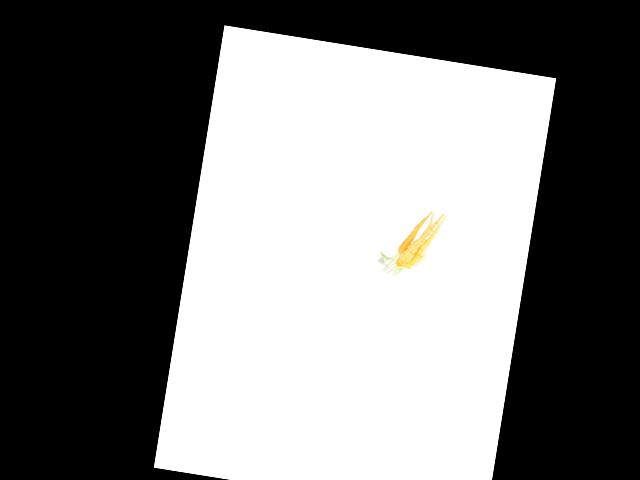carrot: (403, 208, 449, 277)
